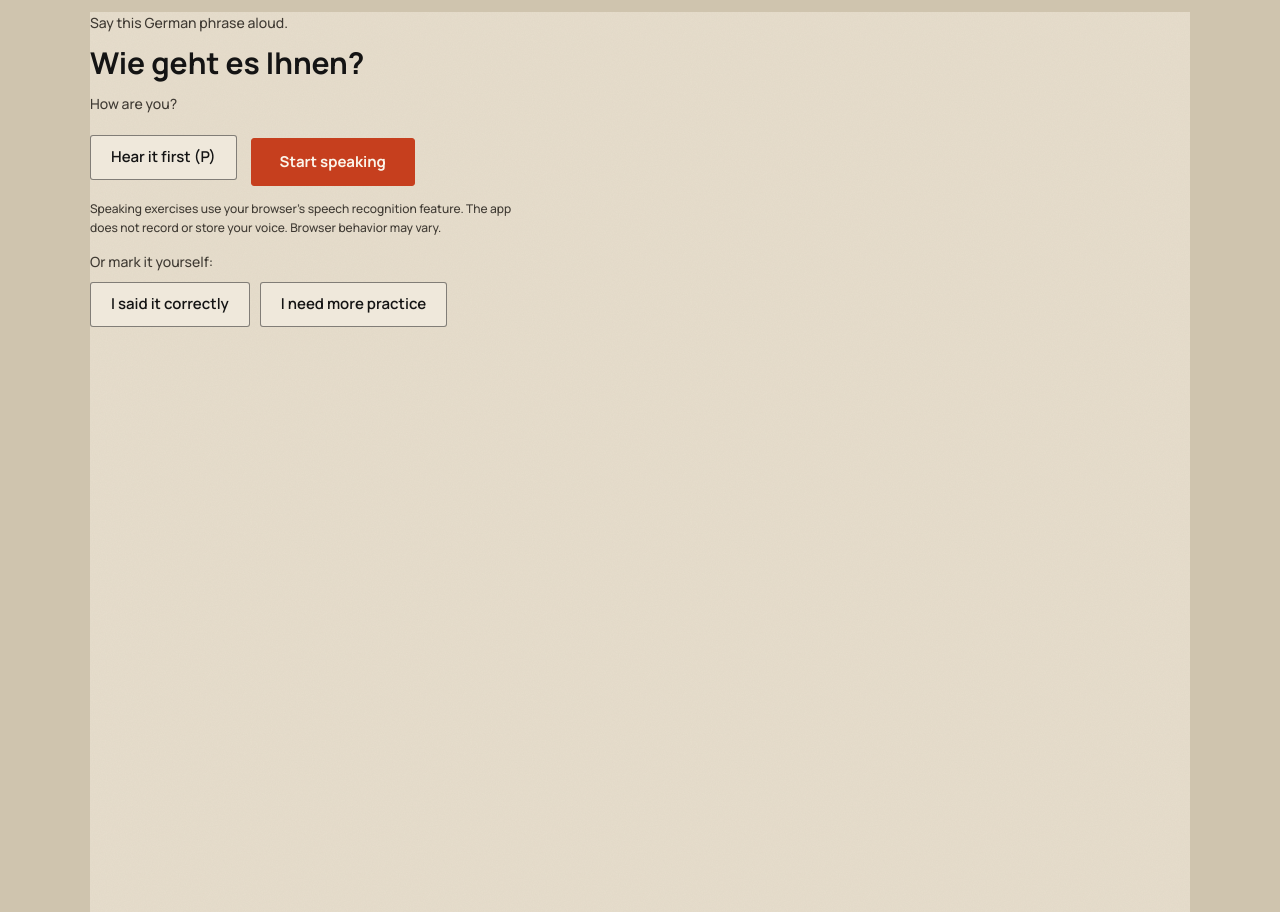
SpeakingExercise › says nothing was heard, and offers no empty result, when recognition hears silence
Click the button "Start speaking".
click(333, 162)  # box 250,138 -> 415,186
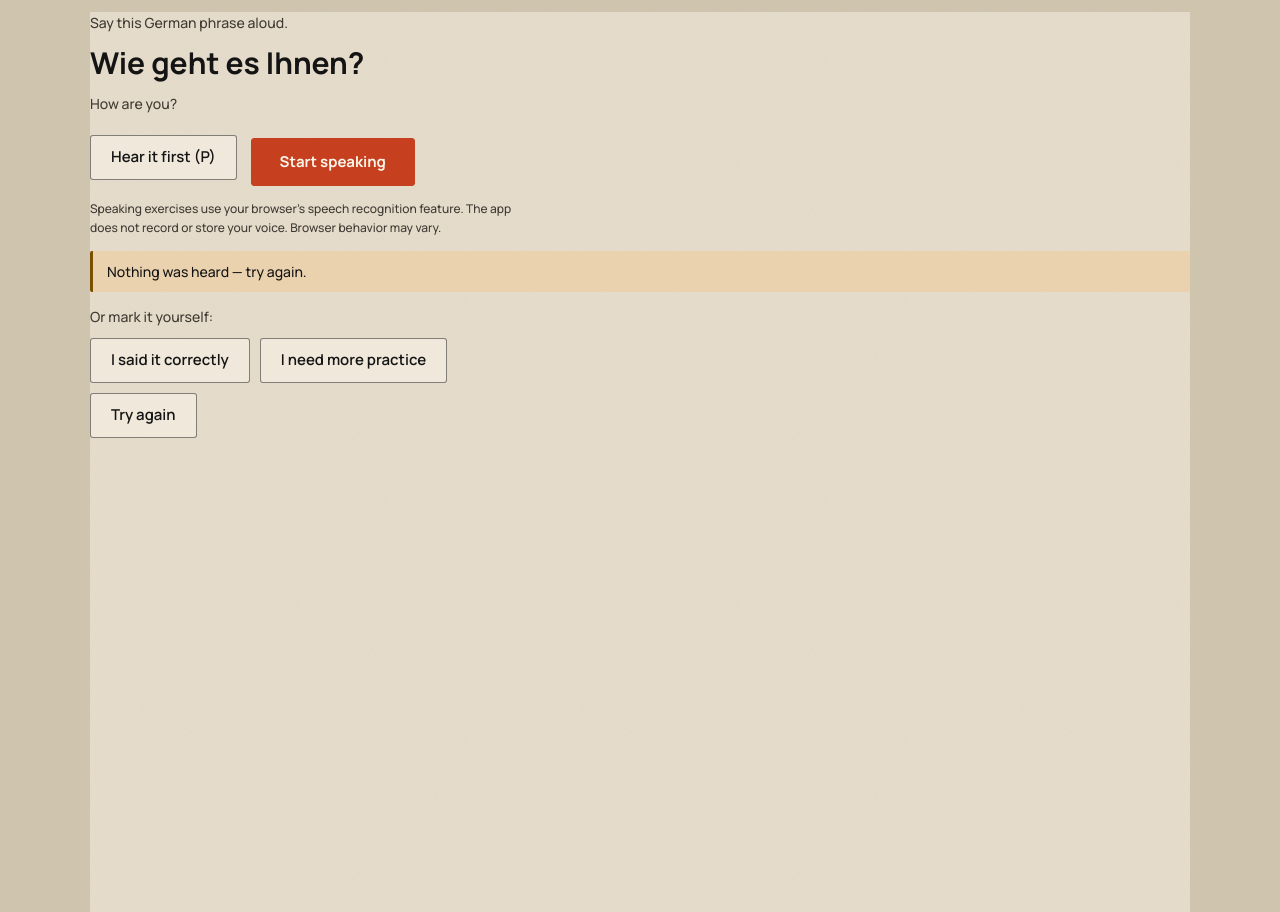
Expected: the message reads "Nothing was heard — try again.", 107,262 -> 307,281
